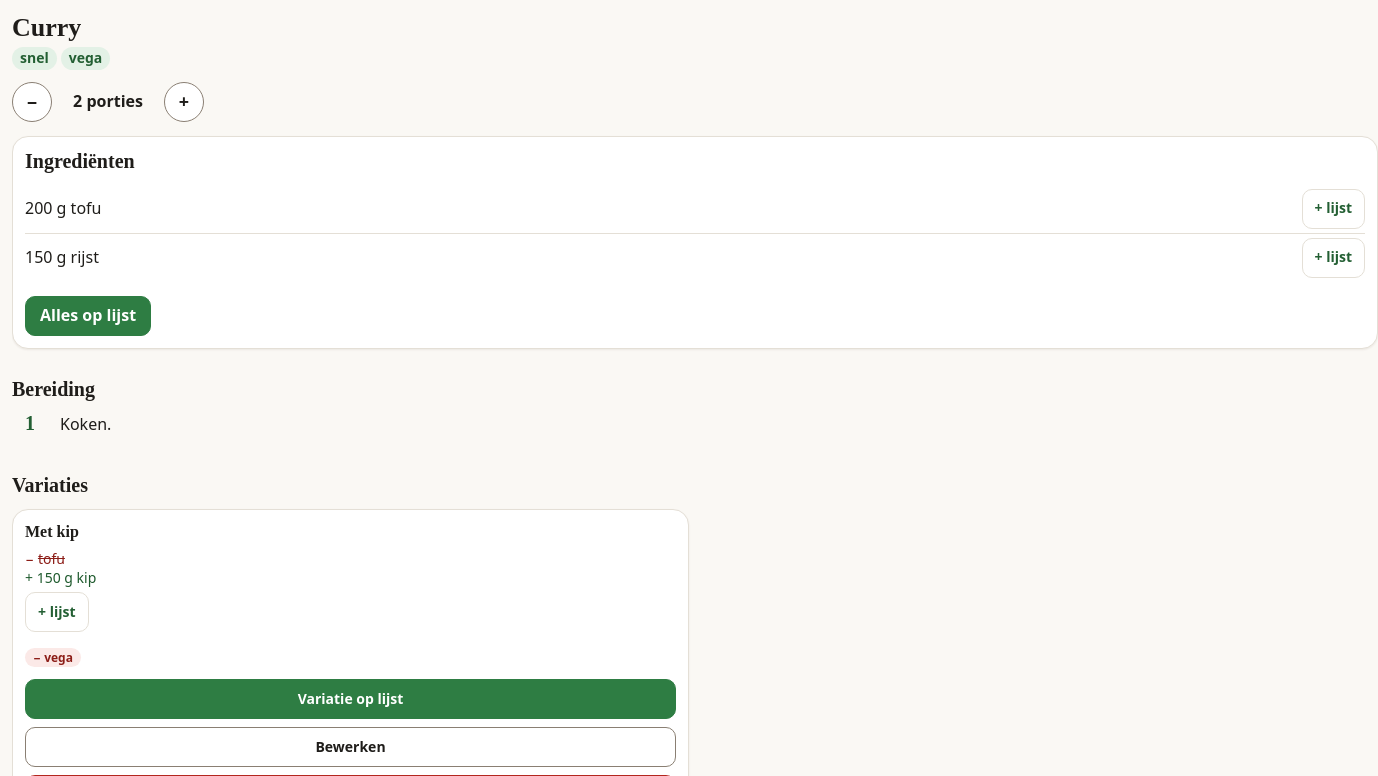
Test case: RecipeDetailView: tags en variaties › "Variatie op lijst" stuurt de gekozen porties naar de server
Click the button named "Meer porties" at (184, 102), box [164, 82, 204, 122]
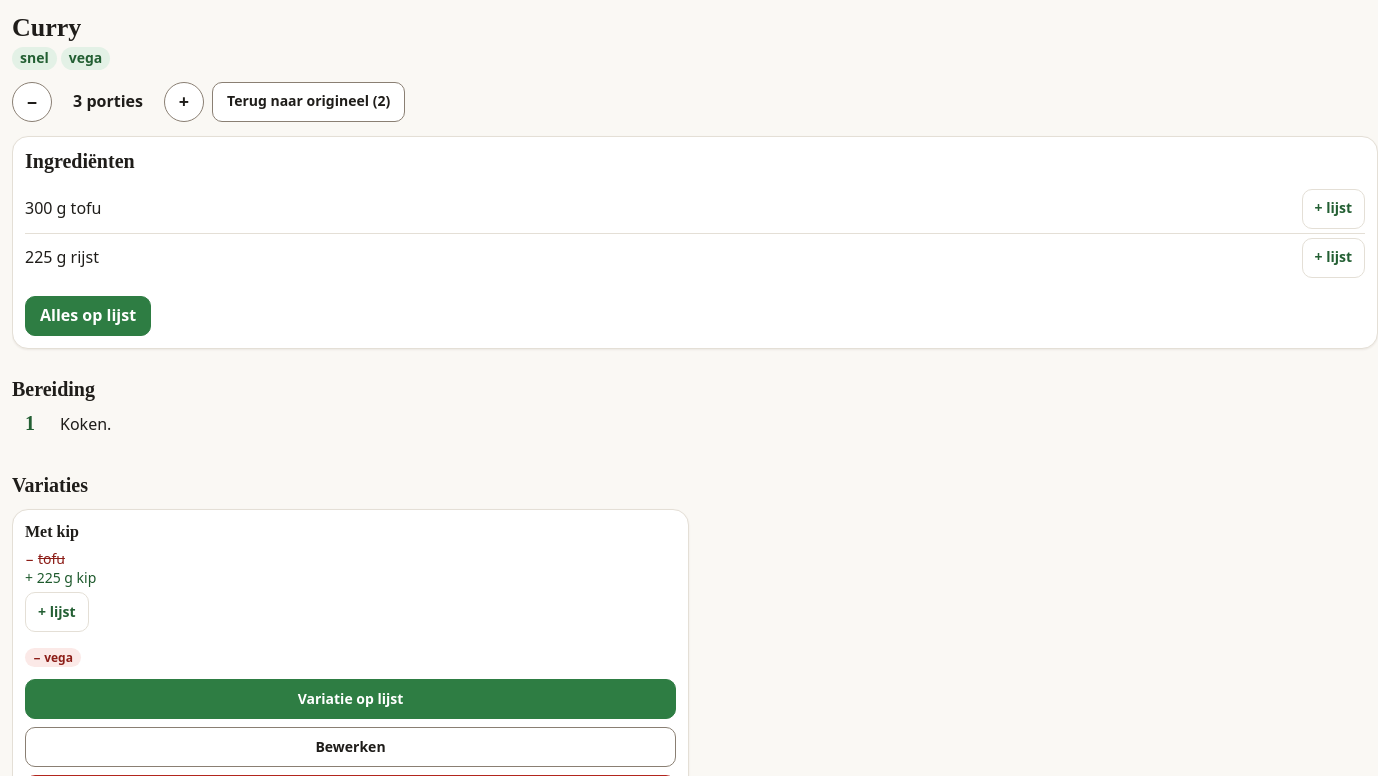
Click the button "Variatie op lijst" at (350, 699), box [25, 679, 676, 719]
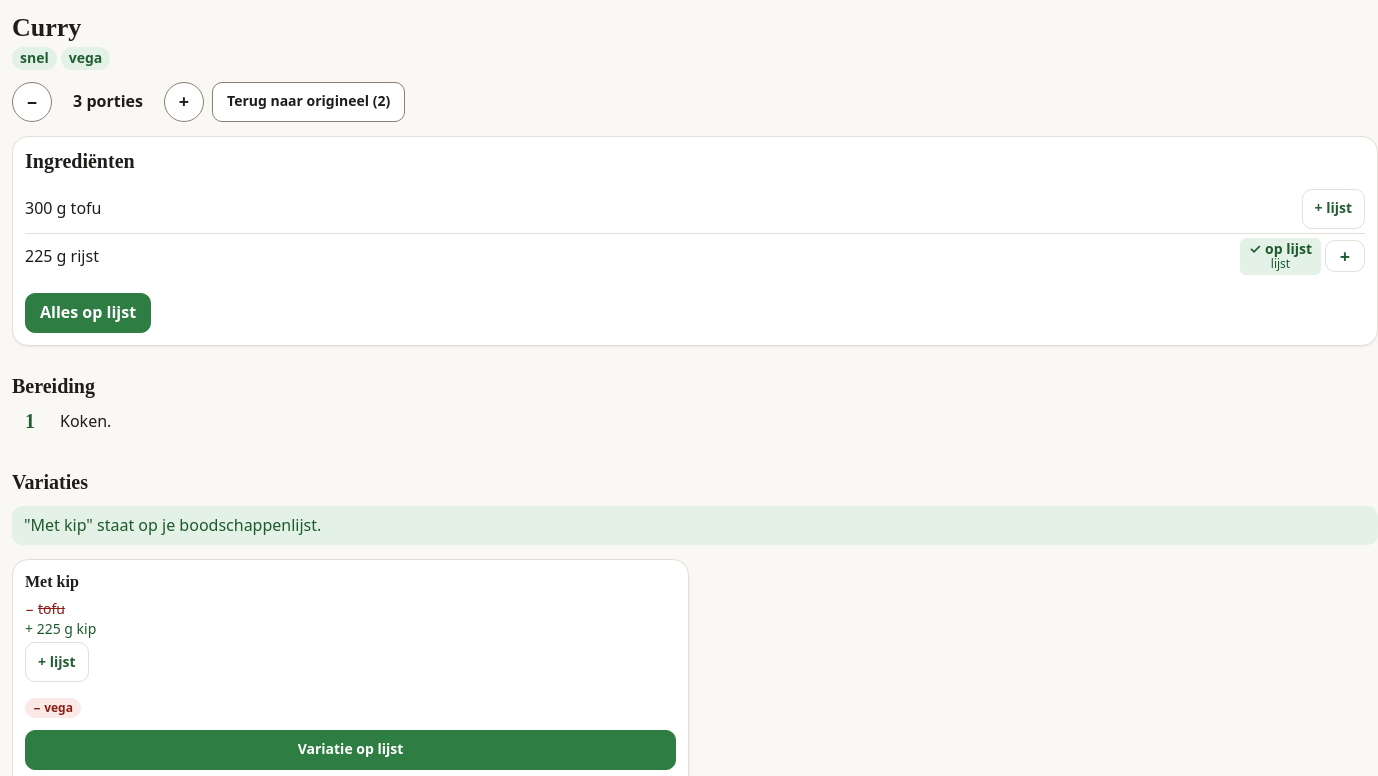
Expected: the message "\"Met kip\" staat op je boodschappenlijst." reads "\"Met kip\" staat op je boodschappenlijst.", [24, 514, 321, 536]
